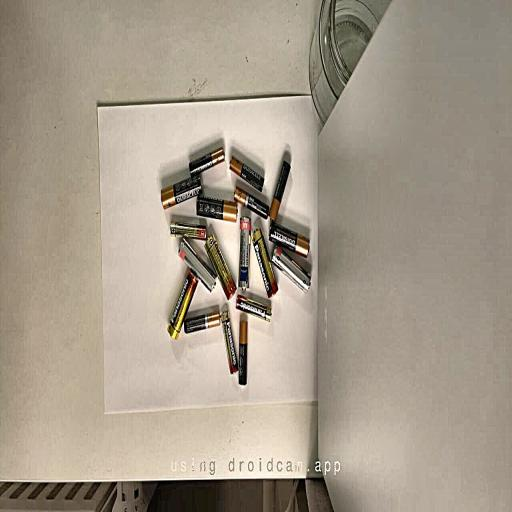DuracellAA: (269, 220, 309, 257), (161, 176, 202, 208), (196, 195, 237, 222)
DuracellAAA: (270, 161, 290, 221), (230, 156, 264, 191), (234, 186, 269, 219), (189, 146, 224, 176), (184, 309, 220, 333), (238, 320, 247, 385)
PanasonicAA: (168, 270, 198, 339), (205, 235, 236, 299), (252, 228, 278, 297)
PanasonicAAA: (221, 309, 238, 373), (236, 294, 271, 321), (170, 221, 206, 240)
RainbowAA: (179, 238, 216, 292), (272, 246, 310, 291), (238, 216, 251, 289)
